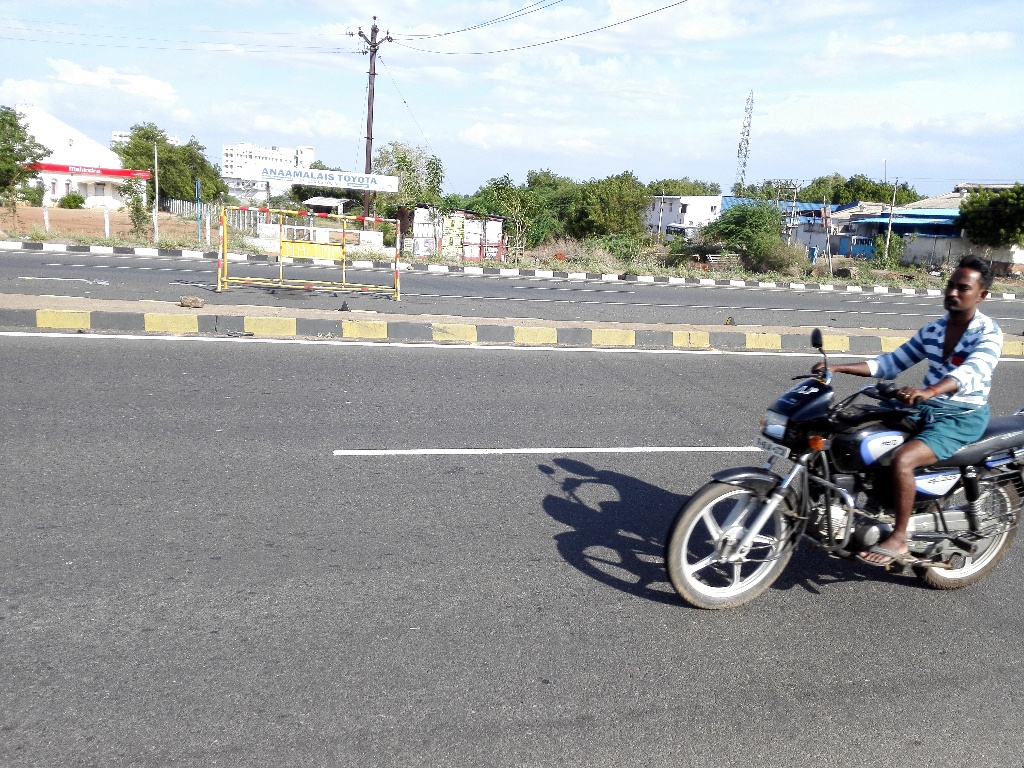biker: (655, 238, 1024, 621)
nohelmet: (933, 250, 1002, 337)
